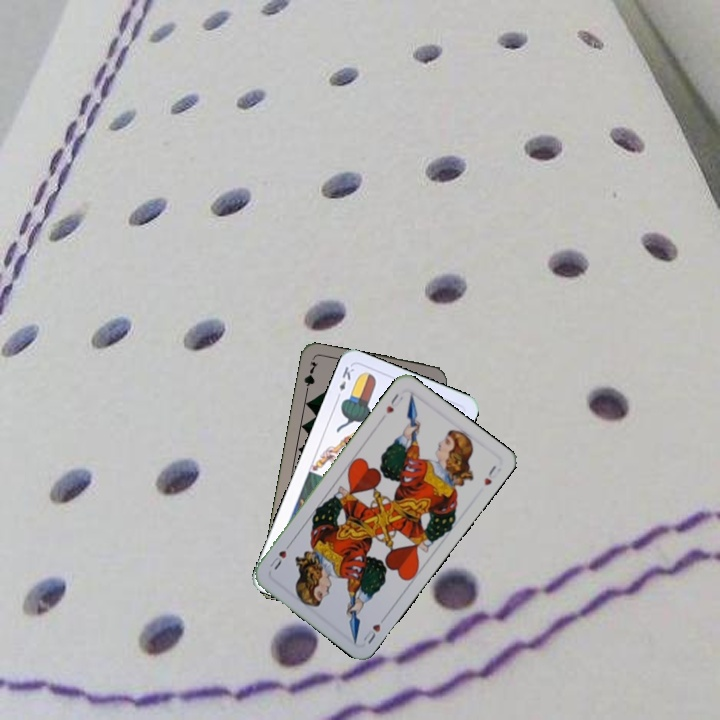EK: (332, 362, 357, 402)
G7: (300, 358, 320, 397)
HU: (359, 611, 389, 646), (382, 389, 406, 417)
